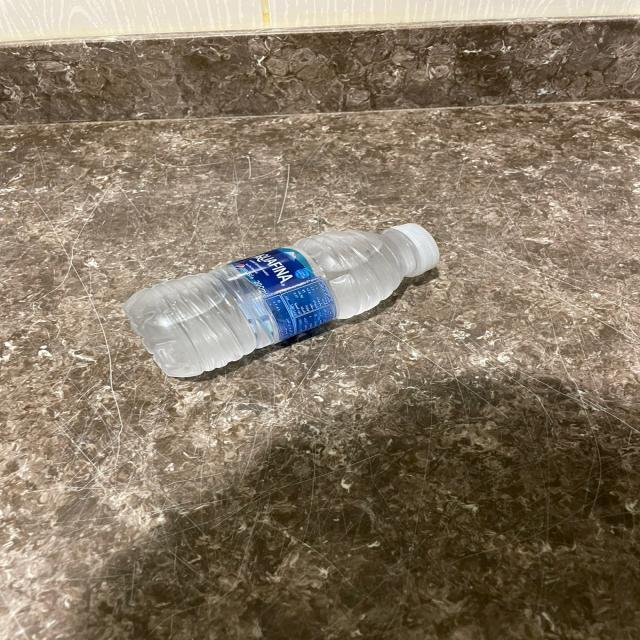chai: (125, 224, 439, 378)
